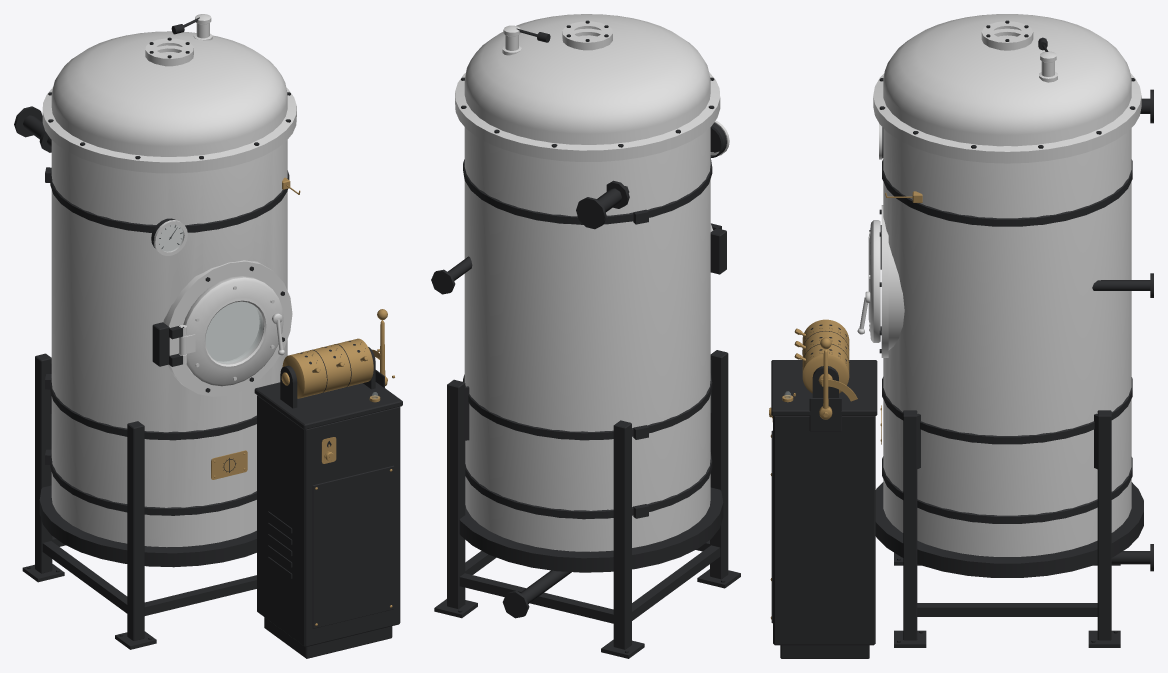
File: autoclave.glb
3 renders of one model, left to right at view 1: azimuth 30°, elevation 25°; view 2: azimuth 150°, elevation 25°; view 3: azimuth 270°, elevation 25°, orthographic. The views are drawn at different scales.
Visible parts, largest first — view 1: autoclave_body, IA_ac_door, growth_window; view 2: autoclave_body; view 3: autoclave_body, IA_ac_door, IA_start_lever.
Part boxes in pixels (<box>): autoclave_body: <box>14,14,402,658</box>; IA_ac_door: <box>179,276,284,386</box>; growth_window: <box>206,302,263,363</box>; autoclave_body: <box>431,14,740,658</box>; autoclave_body: <box>770,14,1153,658</box>; IA_ac_door: <box>857,220,880,342</box>; IA_start_lever: <box>819,337,832,419</box>.
Bounding box in the file's own units: 1.01 × 2.17 × 1.31.
